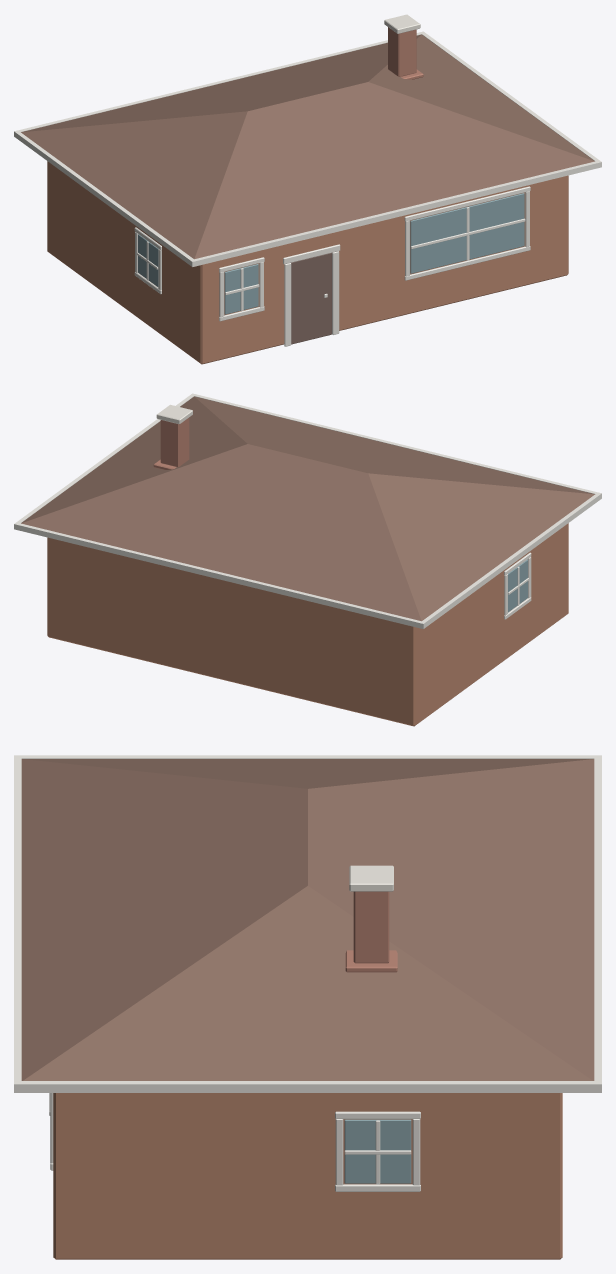
The model's file is FTF_Building_Canadian_Rural_House_LowPoly_11x8m.glb.
The picture shows the model from 3 angles, top to bottom: view 1: azimuth 30°, elevation 25°; view 2: azimuth 150°, elevation 25°; view 3: azimuth 270°, elevation 25°; orthographic projection. The views are drawn at different scales.
Visible parts, largest first — view 1: FTF_Building_Canadian_Rural_House_LowPoly_11x8m; view 2: FTF_Building_Canadian_Rural_House_LowPoly_11x8m; view 3: FTF_Building_Canadian_Rural_House_LowPoly_11x8m.
Part boxes in pixels (x1,y1,x2,y2): FTF_Building_Canadian_Rural_House_LowPoly_11x8m: (14, 14, 601, 364); FTF_Building_Canadian_Rural_House_LowPoly_11x8m: (14, 393, 601, 726); FTF_Building_Canadian_Rural_House_LowPoly_11x8m: (14, 755, 601, 1259).
Bounding box in the file's own units: 12.24 × 5.72 × 9.24.
